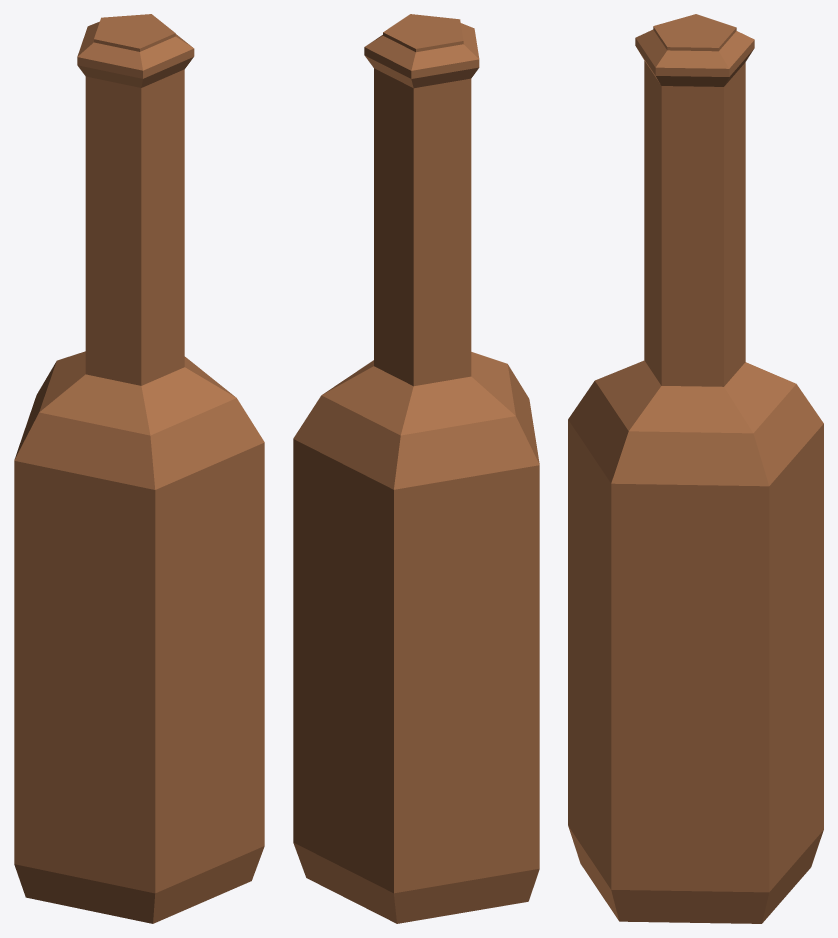
File: Bira 2.fbx
3 renders of one model, left to right at view 1: azimuth 30°, elevation 25°; view 2: azimuth 150°, elevation 25°; view 3: azimuth 270°, elevation 25°, orthographic.
Parts seen in each view (by area): view 1: Circle.004; view 2: Circle.004; view 3: Circle.004.
Boxes of the visible parts, left/top/right/bottom form: Circle.004: left=14, top=14, right=264, bottom=923; Circle.004: left=293, top=14, right=539, bottom=923; Circle.004: left=568, top=14, right=823, bottom=923.
Bounding box in the file's own units: 39.97 × 152 × 41.51.
